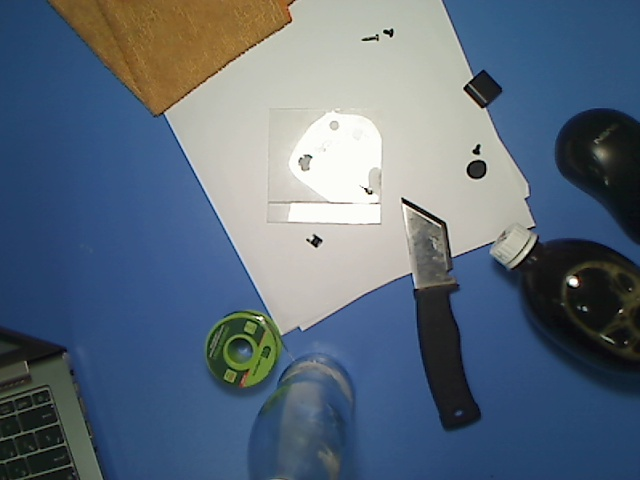plast_bottle: (487, 217, 640, 387)
